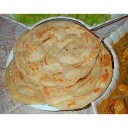parota: (17, 18, 99, 83), (40, 47, 112, 109), (7, 56, 53, 106)
